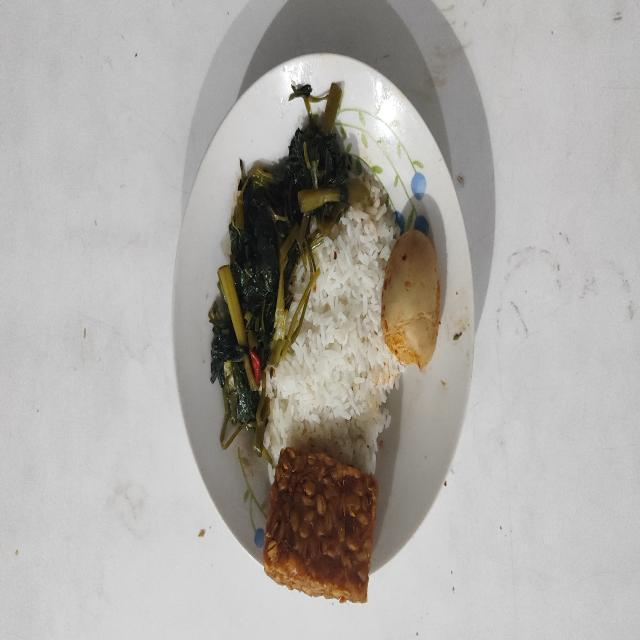nasi_putih: (264, 184, 401, 474)
tempe_goreng: (264, 448, 378, 602)
tumis_kangkung: (208, 83, 370, 456)
